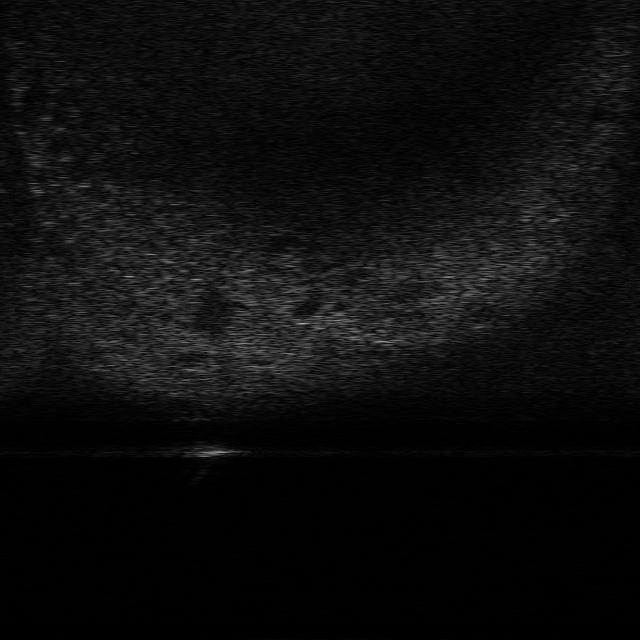cube: (175, 438, 240, 462)
